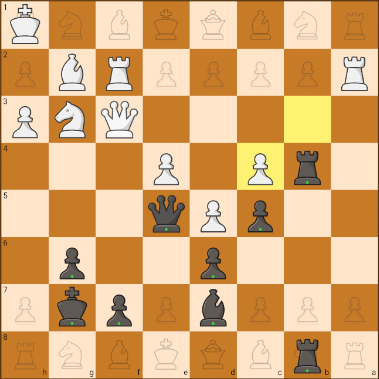bb: (196, 288, 232, 327)
bk: (52, 286, 95, 330)
bp: (101, 290, 138, 330), (54, 242, 91, 281), (196, 245, 232, 284), (244, 199, 276, 235)
bq: (147, 193, 188, 235)
br: (288, 332, 326, 376), (291, 149, 325, 187)
wb: (52, 53, 89, 93)
wk: (3, 3, 46, 49)
wn: (53, 98, 86, 139)
wp: (195, 196, 230, 234), (7, 103, 40, 140), (152, 151, 181, 188), (247, 152, 274, 187)
wq: (98, 99, 140, 141)
wr: (102, 53, 137, 93), (333, 57, 372, 92)
